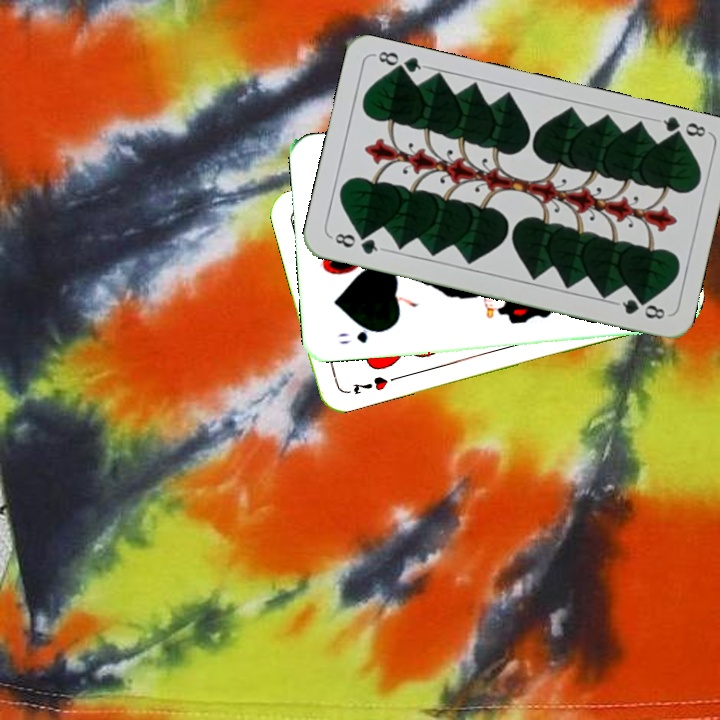G8: (652, 112, 711, 144), (327, 229, 386, 257)
GO: (335, 323, 386, 347)
H7: (348, 372, 390, 397)
